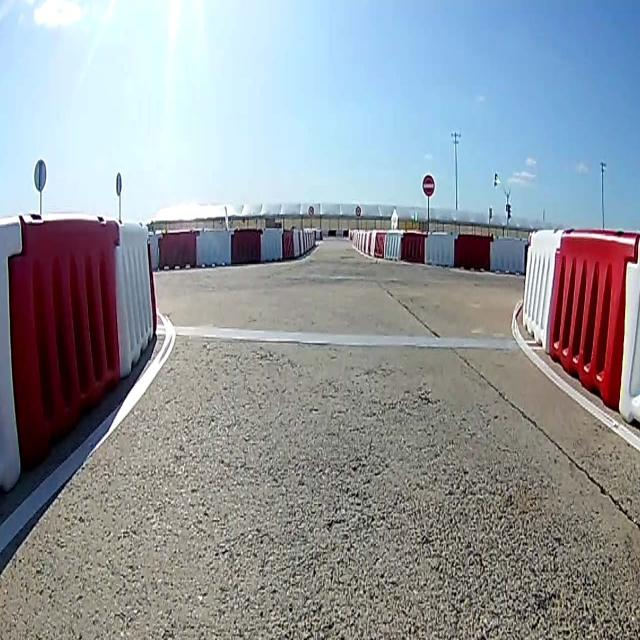girisyok: (421, 175, 435, 198)
